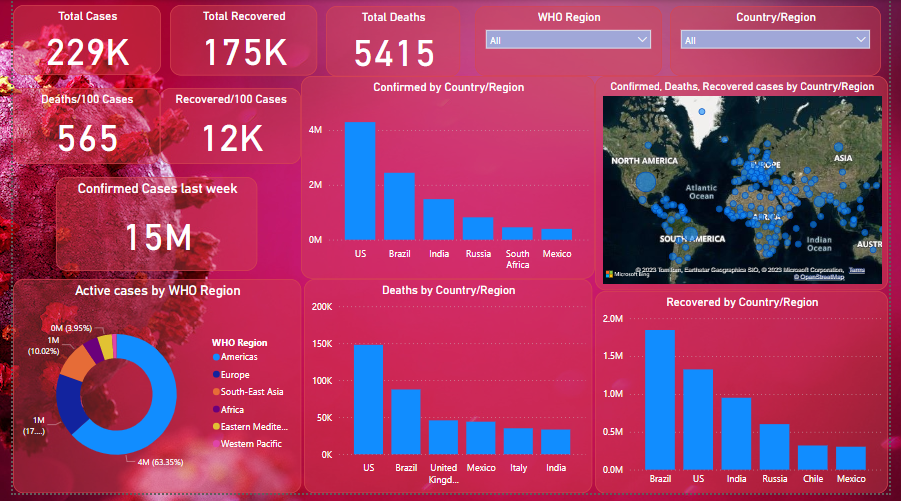

The dashboard page shown, as its layout file describes it:
{"tool":"powerbi","page":{"name":"Page 1","canvas":[1280,720],"ordinal":0},"visuals":[{"type":"columnChart","title":"Confirmed by Country/Region","fields":{"Category":["country_wise_latest.Country/Region"],"Y":["Sum(country_wise_latest.Confirmed)"]},"box":[420.6,111,429.4,296.5],"z":0},{"type":"columnChart","title":"Deaths by Country/Region","fields":{"Y":["Sum(country_wise_latest.Deaths)"],"Category":["country_wise_latest.Country/Region"]},"box":[425,407.5,420.6,312.5],"z":1000},{"type":"columnChart","title":"Recovered by Country/Region","fields":{"Category":["country_wise_latest.Country/Region"],"Y":["Sum(country_wise_latest.Recovered)"]},"box":[849.9,424.3,428.3,295.7],"z":2000},{"type":"card","title":"Total Cases","fields":{"Values":["Sum(country_wise_latest.New cases)"]},"box":[0,8,216.1,102.1],"z":3000},{"type":"card","title":"Total Deaths","fields":{"Values":["Sum(country_wise_latest.New deaths)"]},"box":[457.1,8.6,195.7,102.9],"z":4000},{"type":"card","title":"Total Recovered","fields":{"Values":["Sum(country_wise_latest.New recovered)"]},"box":[229.4,8,214.8,103.4],"z":5000},{"type":"donutChart","title":"Active cases by WHO Region","fields":{"Y":["Sum(country_wise_latest.Active)"],"Category":["country_wise_latest.WHO Region"]},"box":[0,407.5,420.6,312.5],"z":6000},{"type":"slicer","title":"Country/Region","fields":{"Values":["country_wise_latest.Country/Region"]},"box":[960,9.3,307.6,102.1],"z":7000},{"type":"slicer","title":"WHO Region","fields":{"Values":["country_wise_latest.WHO Region"]},"box":[674.9,9.3,273.1,102.1],"z":8000},{"type":"map","title":"Confirmed, Deaths, Recovered cases by Country/Region","fields":{"Category":["country_wise_latest.Country/Region"],"Size":["Sum(country_wise_latest.Confirmed)"]},"box":[849.9,111.4,428.3,312.9],"z":9000},{"type":"card","title":"Deaths/100 Cases","fields":{"Values":["Sum(country_wise_latest.Deaths / 100 Cases)"]},"box":[0,128.5,214.7,111],"z":10000},{"type":"card","title":"Recovered/100 Cases","fields":{"Values":["Sum(country_wise_latest.Recovered / 100 Cases)"]},"box":[214.3,128.6,205.7,111.4],"z":11000},{"type":"card","title":"Confirmed Cases last week","fields":{"Values":["Sum(country_wise_latest.Confirmed last week)"]},"box":[62.9,258.6,294.3,137.1],"z":12000}]}

Visuals, with their boxes in screenshot pixels (x1, y1, x2, y2), scaled from the page's 1280x720 canvas onto the 901x501 screenshot:
"Confirmed by Country/Region" columnChart: {"x1": 296, "y1": 77, "x2": 598, "y2": 284}
"Deaths by Country/Region" columnChart: {"x1": 299, "y1": 284, "x2": 595, "y2": 500}
"Recovered by Country/Region" columnChart: {"x1": 598, "y1": 295, "x2": 900, "y2": 500}
"Total Cases" card: {"x1": 0, "y1": 6, "x2": 152, "y2": 77}
"Total Deaths" card: {"x1": 322, "y1": 6, "x2": 460, "y2": 78}
"Total Recovered" card: {"x1": 161, "y1": 6, "x2": 313, "y2": 78}
"Active cases by WHO Region" donutChart: {"x1": 0, "y1": 284, "x2": 296, "y2": 500}
"Country/Region" slicer: {"x1": 676, "y1": 6, "x2": 892, "y2": 78}
"WHO Region" slicer: {"x1": 475, "y1": 6, "x2": 667, "y2": 78}
"Confirmed, Deaths, Recovered cases by Country/Region" map: {"x1": 598, "y1": 78, "x2": 900, "y2": 295}
"Deaths/100 Cases" card: {"x1": 0, "y1": 89, "x2": 151, "y2": 167}
"Recovered/100 Cases" card: {"x1": 151, "y1": 89, "x2": 296, "y2": 167}
"Confirmed Cases last week" card: {"x1": 44, "y1": 180, "x2": 251, "y2": 275}
